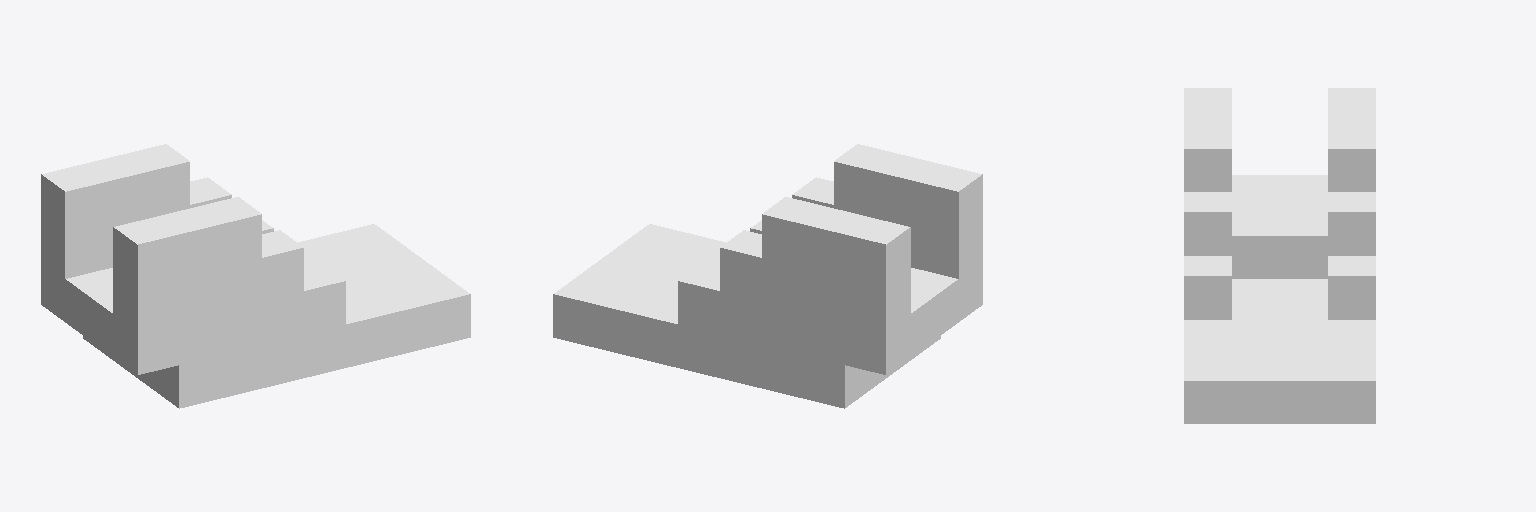
Rendered from Gun1-3.obj.
3 renders of one model, left to right at view 1: azimuth 30°, elevation 25°; view 2: azimuth 150°, elevation 25°; view 3: azimuth 270°, elevation 25°, orthographic.
Parts seen in each view (by area): view 1: object 1; view 2: object 1; view 3: object 1.
Boxes of the visible parts, x1=… form: object 1: x1=41, y1=144, x2=470, y2=408; object 1: x1=553, y1=144, x2=982, y2=408; object 1: x1=1184, y1=88, x2=1375, y2=423.
Bounding box in the file's own units: 0.8 × 0.4 × 0.4.